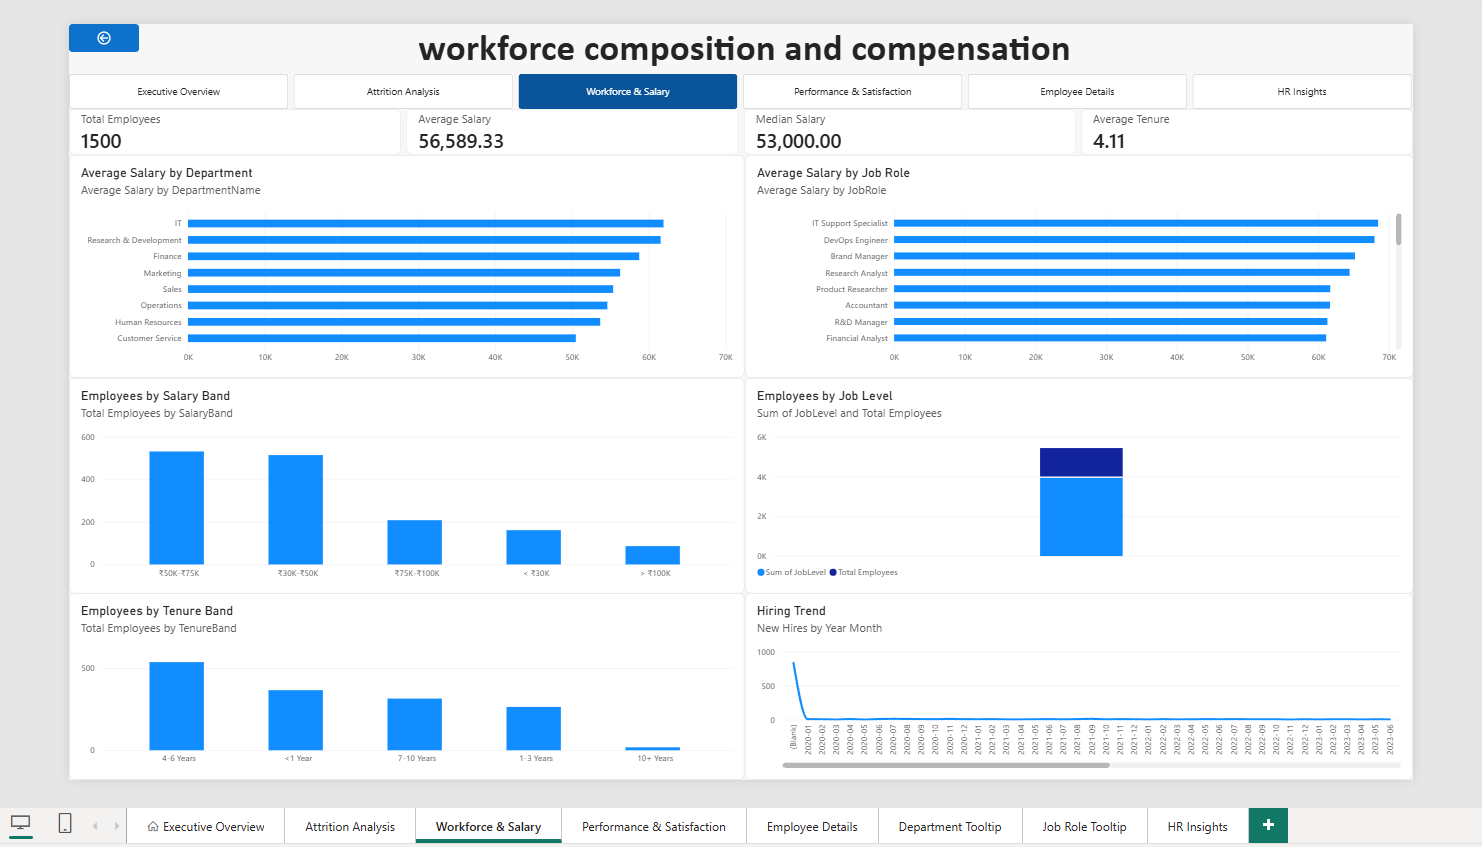

The dashboard page shown, as its layout file describes it:
{"tool":"powerbi","page":{"name":"Workforce & Salary","canvas":[1920,1080],"ordinal":2},"visuals":[{"type":"textbox","box":[10,0,1910,75],"z":0},{"type":"cardVisual","fields":{"Data":["FactEmployee.Total Employees","FactEmployee.Average Salary","FactEmployee.Median Salary","FactEmployee.Average Tenure"]},"box":[0,121.4,1920,65.7],"z":1000},{"type":"barChart","title":"Average Salary by Department","fields":{"Category":["DimDepartment.DepartmentName"],"Y":["FactEmployee.Average Salary"]},"box":[0,186.7,965,318.3],"z":2000},{"type":"barChart","title":"Average Salary by Job Role","fields":{"Category":["DimJobRole.JobRole"],"Y":["FactEmployee.Average Salary"]},"box":[965,186.7,955,318.3],"z":3000},{"type":"columnChart","title":"Employees by Salary Band","fields":{"Category":["FactEmployee.SalaryBand"],"Y":["FactEmployee.Total Employees"]},"box":[0,505,965,308.3],"z":4000},{"type":"columnChart","title":"Employees by Job Level","fields":{"Y":["Sum(FactEmployee.JobLevel)","FactEmployee.Total Employees"]},"box":[965,505,955,308.3],"z":5000},{"type":"columnChart","title":"Employees by Tenure Band","fields":{"Category":["FactEmployee.TenureBand"],"Y":["FactEmployee.Total Employees"]},"box":[0,813.3,965,266.7],"z":6000},{"type":"lineChart","title":"Hiring Trend","fields":{"Category":["DimDate.Year Month"],"Y":["FactEmployee.New Hires"]},"box":[965.7,812.9,954.3,267.1],"z":7000},{"type":"pageNavigator","box":[0,71.4,1920,50],"z":8000},{"type":"actionButton","box":[0,0,100,40],"z":9000}]}

Visuals, with their boxes on the page's 1920x1080 design canvas (x1, y1, x2, y2). These are canvas units, not pixel positions in the 1482x847 screenshot, which may show the page scaled, cropped or inside an application window:
textbox: {"x1": 10, "y1": 0, "x2": 1920, "y2": 75}
cardVisual - FactEmployee.Total Employees x FactEmployee.Average Salary: {"x1": 0, "y1": 121, "x2": 1920, "y2": 187}
"Average Salary by Department" barChart: {"x1": 0, "y1": 187, "x2": 965, "y2": 505}
"Average Salary by Job Role" barChart: {"x1": 965, "y1": 187, "x2": 1920, "y2": 505}
"Employees by Salary Band" columnChart: {"x1": 0, "y1": 505, "x2": 965, "y2": 813}
"Employees by Job Level" columnChart: {"x1": 965, "y1": 505, "x2": 1920, "y2": 813}
"Employees by Tenure Band" columnChart: {"x1": 0, "y1": 813, "x2": 965, "y2": 1080}
"Hiring Trend" lineChart: {"x1": 966, "y1": 813, "x2": 1920, "y2": 1080}
pageNavigator: {"x1": 0, "y1": 71, "x2": 1920, "y2": 121}
actionButton: {"x1": 0, "y1": 0, "x2": 100, "y2": 40}
